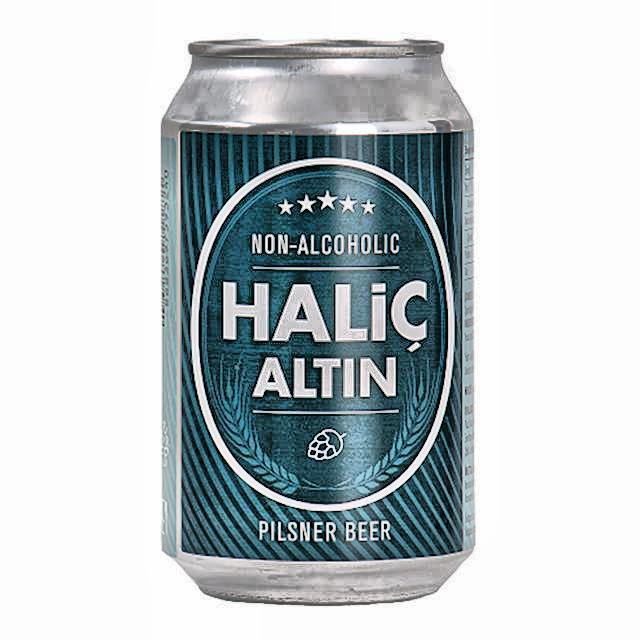metal: (161, 39, 477, 609)
